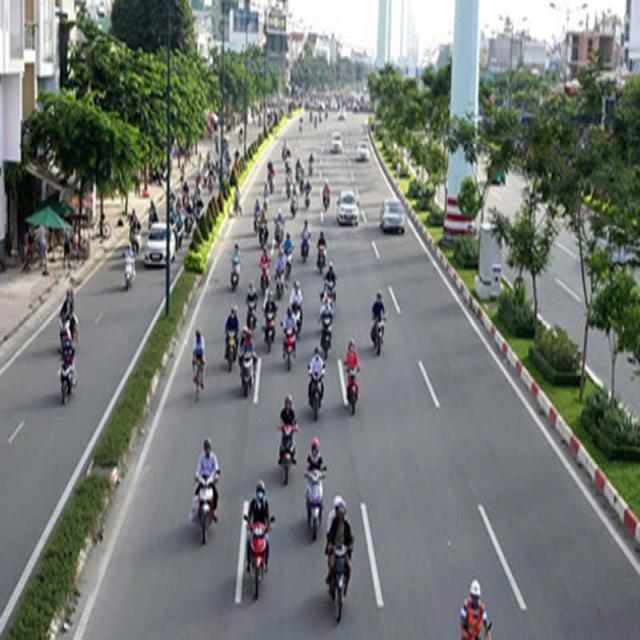car: (145, 221, 175, 269), (380, 197, 406, 239), (338, 190, 361, 230), (356, 140, 373, 164), (328, 135, 346, 155)
motobyte: (247, 480, 272, 596), (192, 436, 220, 537), (330, 498, 350, 618), (305, 438, 324, 539), (338, 340, 362, 416), (278, 397, 297, 486), (57, 337, 80, 402), (57, 287, 80, 350), (308, 337, 324, 419), (241, 332, 257, 400), (371, 292, 386, 359), (283, 308, 297, 376), (226, 307, 236, 376), (245, 285, 259, 334), (327, 266, 340, 318), (264, 294, 277, 346), (291, 282, 303, 336), (322, 301, 332, 361), (228, 249, 242, 288), (122, 246, 134, 290), (274, 251, 285, 295), (258, 250, 269, 290), (132, 209, 141, 256), (257, 212, 268, 250), (300, 223, 310, 263), (285, 235, 292, 284), (267, 162, 276, 198), (275, 208, 284, 242), (319, 231, 326, 274), (194, 179, 204, 209), (253, 194, 260, 233), (176, 215, 184, 247), (187, 202, 194, 238), (290, 186, 298, 217), (324, 178, 331, 212), (183, 180, 190, 208), (304, 181, 311, 208), (263, 185, 268, 218)
